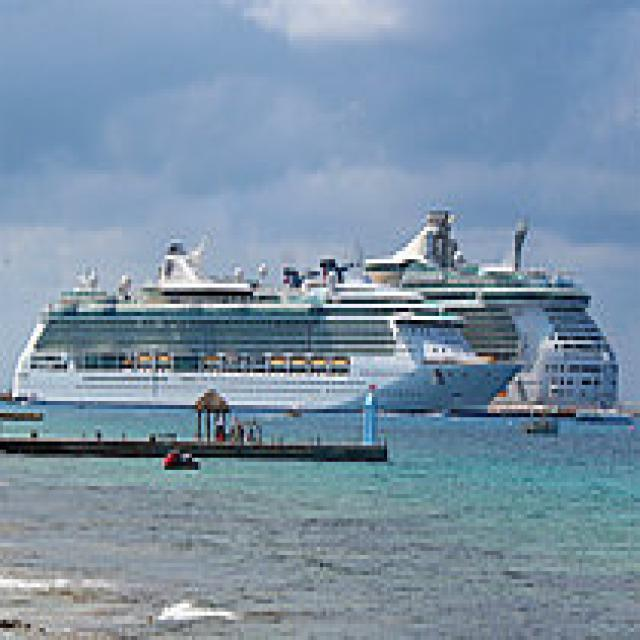Ship: (7, 244, 531, 434)
